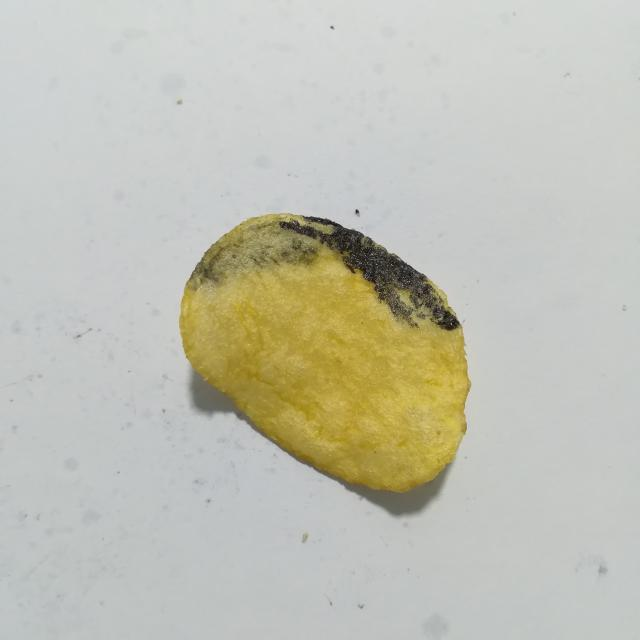chip: (180, 214, 470, 491)
damaged: (280, 217, 460, 330)
semi-damaged: (186, 222, 325, 291)
